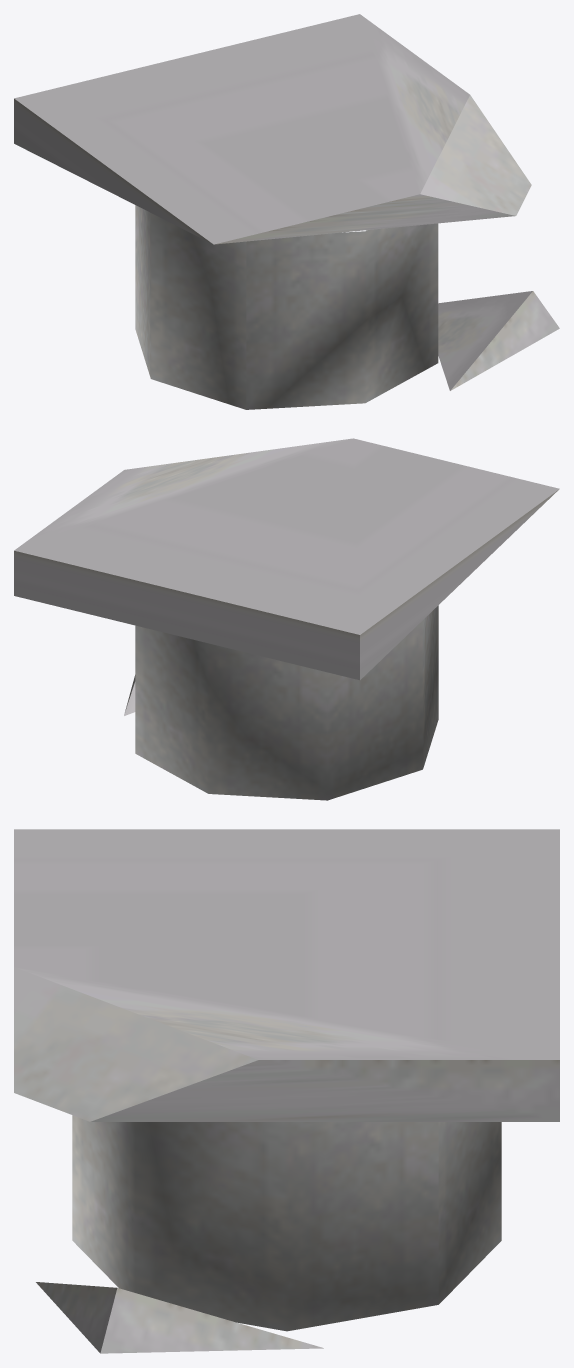
The model's file is general_obj_bigtower12_lod_01.glb.
The picture shows the model from 3 angles, top to bottom: view 1: azimuth 30°, elevation 25°; view 2: azimuth 150°, elevation 25°; view 3: azimuth 270°, elevation 25°; orthographic projection. The views are drawn at different scales.
Parts seen in each view (by area): view 1: Sphere01; view 2: Sphere01; view 3: Sphere01.
Boxes of the visible parts, x1=… form: Sphere01: x1=14, y1=14, x2=559, y2=409; Sphere01: x1=14, y1=438, x2=559, y2=800; Sphere01: x1=14, y1=829, x2=559, y2=1353.
Bounding box in the file's own units: 4.37 × 2.46 × 4.
Materials: 1 (1 with a texture image).
